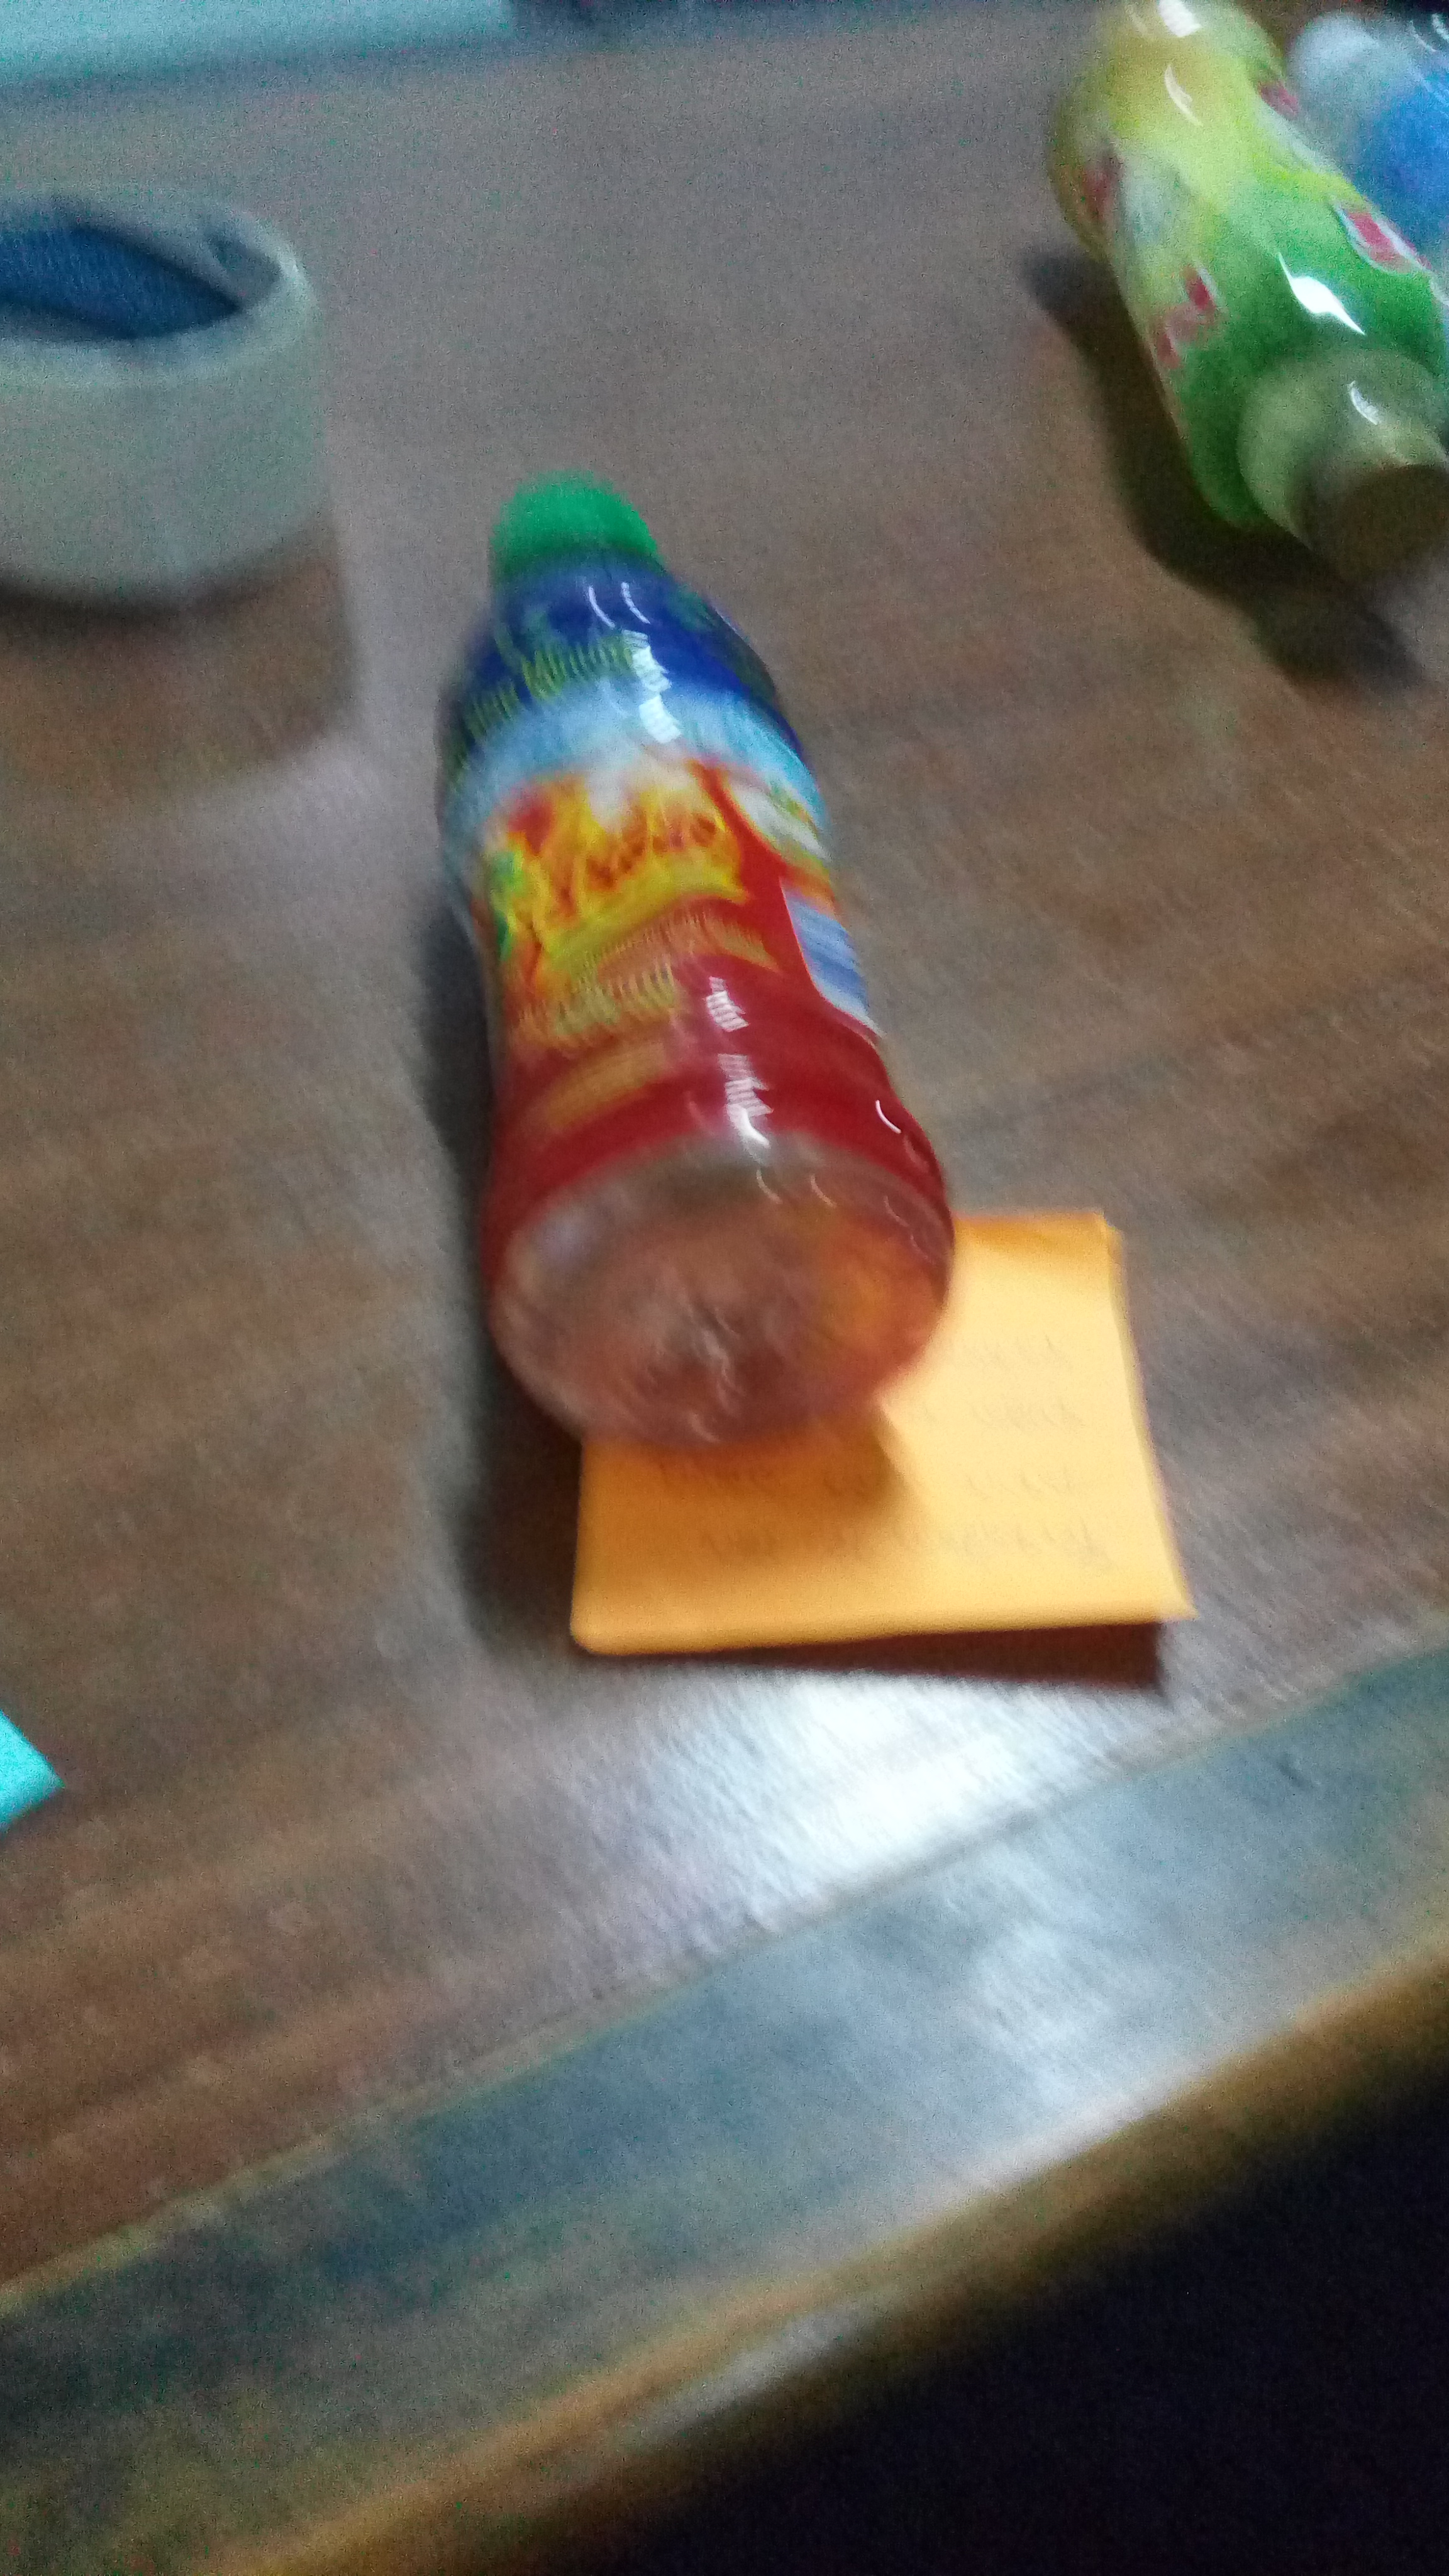botol: (396, 478, 962, 1454), (412, 501, 962, 1444), (1058, 2, 1445, 609), (1069, 2, 1445, 609)
